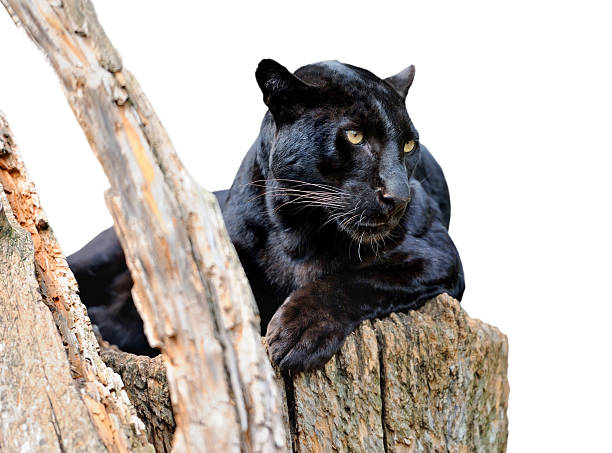panther: (242, 46, 461, 262)
